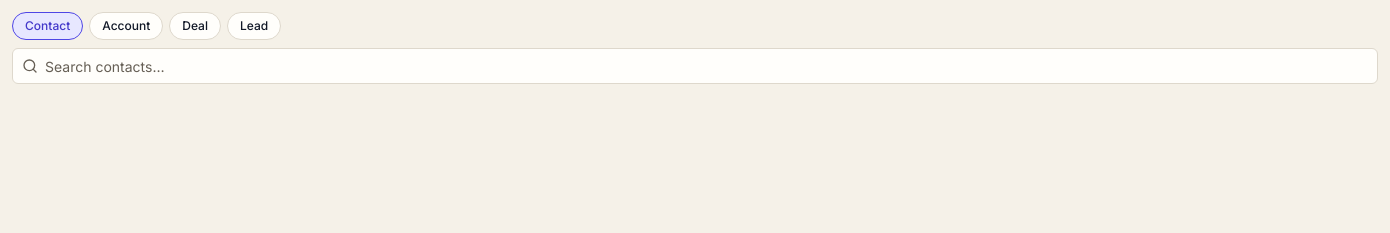
Test case: RecordPicker › searches the server for the typed text and says how many it is not showing
The width and height of the screenshot is (1390, 233).
Type "Ana" into the dropdown named "Find record". click: (695, 66)
box: [12,48,1378,84]
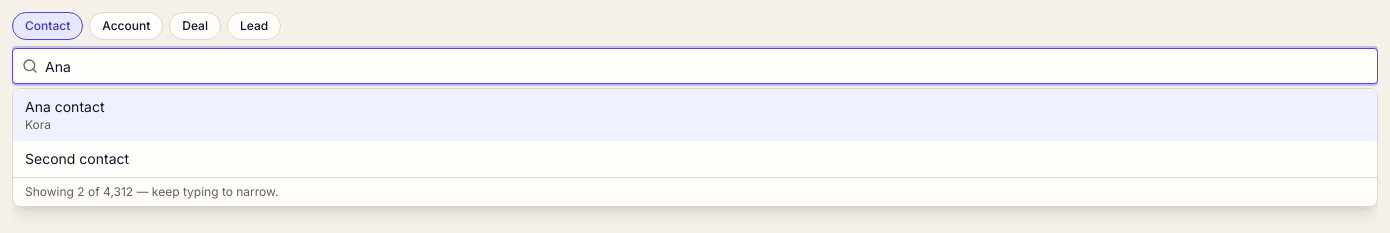
Check: the text "Showing 2 of 4,312 — keep typing to narrow." is shown, box [13,177,1377,206]
